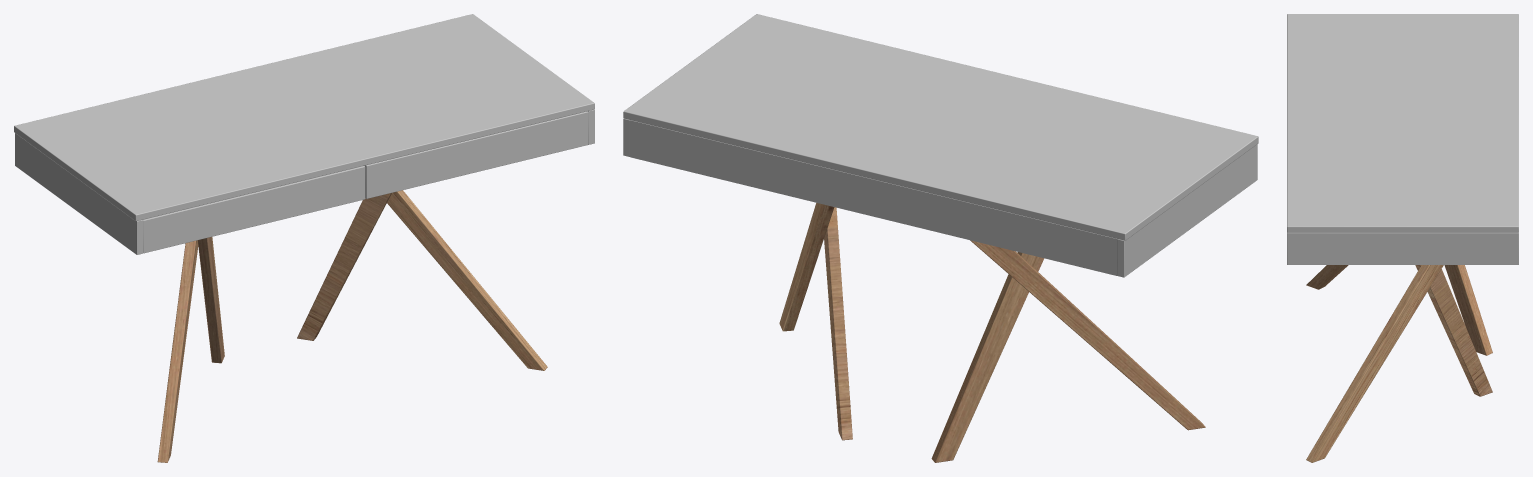
Rendered from Darcey Desk, Walnut and Oak_Sketchfab.fbx.
3 renders of one model, left to right at view 1: azimuth 30°, elevation 25°; view 2: azimuth 150°, elevation 25°; view 3: azimuth 270°, elevation 25°, orthographic. The views are drawn at different scales.
Visible parts, largest first — view 1: Darcey_Deskm; view 2: Darcey_Deskm; view 3: Darcey_Deskm.
Boxes of the visible parts, box(x1,y1,x2,y2) form: Darcey_Deskm: box(14, 14, 594, 462); Darcey_Deskm: box(623, 14, 1258, 462); Darcey_Deskm: box(1287, 14, 1518, 462).
Size of what is drawn, in the model's own units: 130 by 72 by 60.
